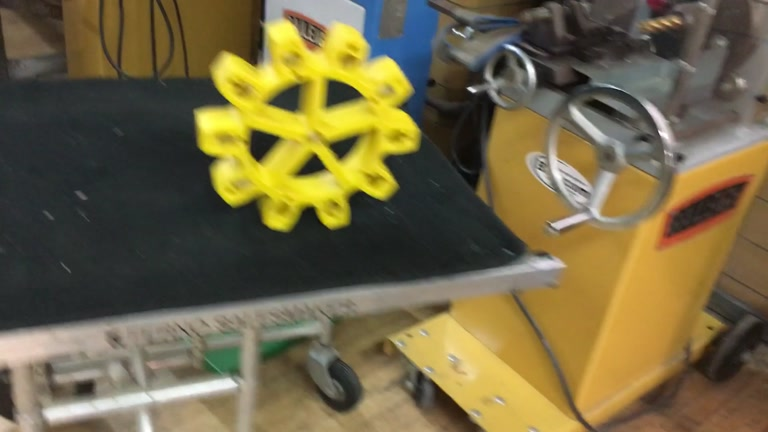gear: (192, 19, 422, 233)
